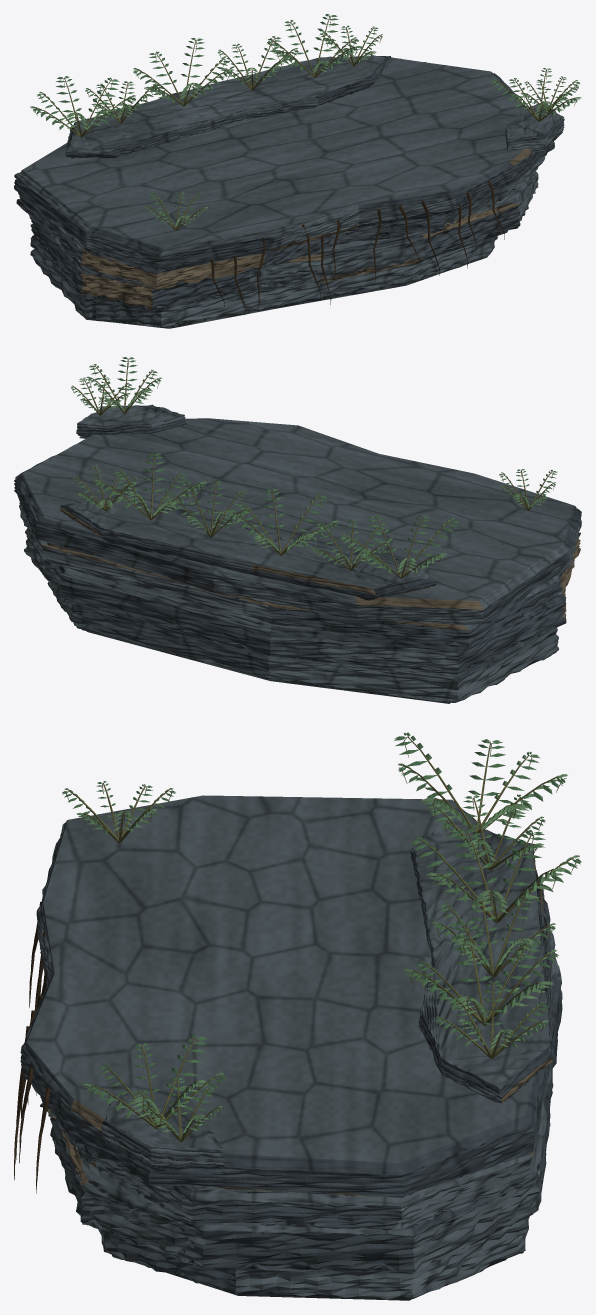
The model's file is oblique_clearing_overlook.glb.
The picture shows the model from 3 angles, top to bottom: view 1: azimuth 30°, elevation 25°; view 2: azimuth 150°, elevation 25°; view 3: azimuth 270°, elevation 25°; orthographic projection. The views are drawn at different scales.
Visible parts, largest first — view 1: Walkable upper plate, Lower shale plate, Rear fern shelf, Buried foundation, Slanted seam, Outer shale fragment, Hanging roots, Curl fern 1, Curl fern 3, Curl fern 5, Curl fern 7, Curl fern 4 (+4 smaller); view 2: Walkable upper plate, Lower shale plate, Rear fern shelf, Buried foundation, Slanted seam, Outer shale fragment, Curl fern 1, Curl fern 3, Curl fern 5, Curl fern 4, Curl fern 7, Curl fern 2 (+3 smaller); view 3: Walkable upper plate, Rear fern shelf, Lower shale plate, Slanted seam, Buried foundation, Outer shale fragment, Curl fern 1, Curl fern 3, Curl fern 5, Curl fern 7, Curl fern 4, Curl fern 2 (+4 smaller).
Boxes of the visible parts, x1,y1,x2,y2 form: Walkable upper plate: [14, 57, 554, 269]; Lower shale plate: [29, 167, 538, 310]; Rear fern shelf: [65, 55, 391, 158]; Buried foundation: [30, 235, 497, 328]; Slanted seam: [16, 156, 545, 290]; Outer shale fragment: [505, 101, 564, 152]; Hanging roots: [210, 180, 504, 315]; Curl fern 1: [30, 76, 135, 137]; Curl fern 3: [133, 38, 233, 106]; Curl fern 5: [267, 14, 361, 77]; Curl fern 7: [491, 68, 581, 121]; Curl fern 4: [218, 36, 298, 90]; Walkable upper plate: [14, 418, 581, 625]; Lower shale plate: [24, 528, 566, 674]; Rear fern shelf: [59, 499, 436, 600]; Buried foundation: [47, 581, 558, 703]; Slanted seam: [19, 502, 580, 647]; Outer shale fragment: [76, 404, 186, 438]; Curl fern 1: [340, 515, 458, 578]; Curl fern 3: [226, 489, 338, 555]; Curl fern 5: [94, 453, 206, 520]; Curl fern 4: [165, 479, 251, 537]; Curl fern 7: [86, 357, 161, 414]; Curl fern 2: [310, 519, 390, 570]; Walkable upper plate: [20, 795, 562, 1197]; Rear fern shelf: [410, 819, 552, 1103]; Lower shale plate: [50, 1033, 557, 1272]; Slanted seam: [40, 1096, 538, 1230]; Buried foundation: [98, 1217, 529, 1300]; Outer shale fragment: [101, 1093, 224, 1172]; Curl fern 1: [394, 732, 567, 833]; Curl fern 3: [411, 828, 581, 923]; Curl fern 5: [402, 920, 558, 1025]; Curl fern 7: [82, 1035, 226, 1129]; Curl fern 4: [431, 895, 555, 977]; Curl fern 2: [430, 794, 545, 870].
Bounding box in the file's own units: 5.41 × 1.72 × 3.34.
Materials: 7 (7 with a texture image).
